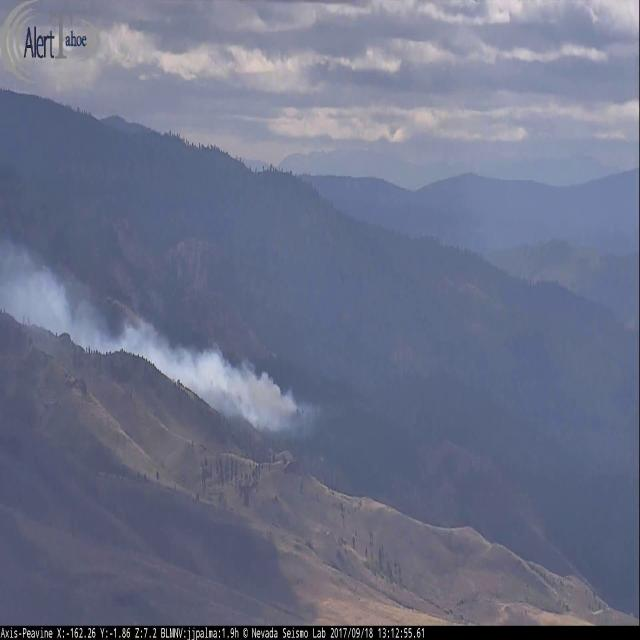smoke: (5, 226, 328, 458)
